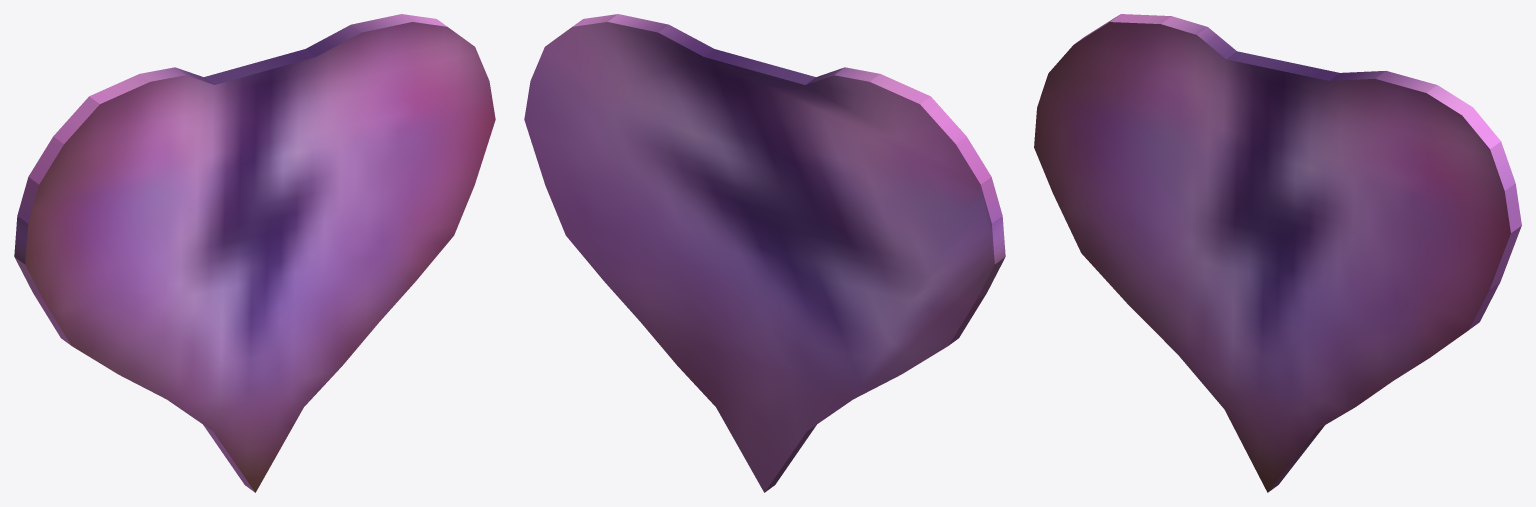
Rendered from Lifesteal.glb.
3 views of the same model, side by side, from view 1: azimuth 30°, elevation 25°; view 2: azimuth 150°, elevation 25°; view 3: azimuth 330°, elevation 25° (orthographic).
Visible parts, largest first — view 1: Circle.006; view 2: Circle.006; view 3: Circle.006.
Part boxes in pixels (x1,y1,x2,y2): Circle.006: [14, 14, 495, 492]; Circle.006: [524, 14, 1005, 492]; Circle.006: [1034, 14, 1521, 492].
Bounding box in the file's own units: 1.25 × 1.11 × 0.05.
Materials: 1 (1 with a texture image).
